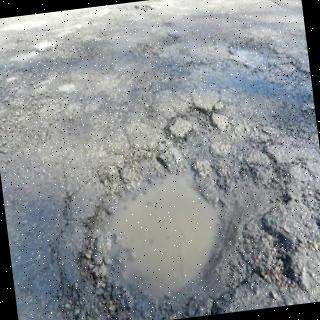pothole: (80, 38, 319, 320)
